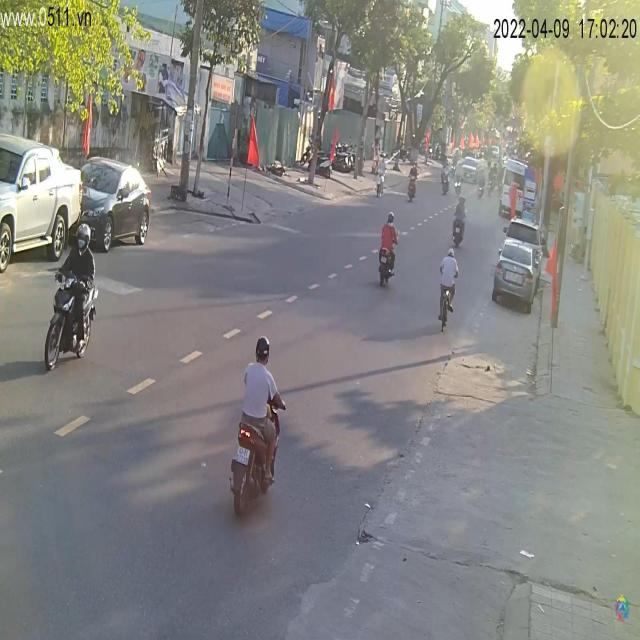car: (1, 133, 84, 276), (78, 159, 155, 253), (493, 223, 544, 314), (459, 156, 481, 188)
motorcycle: (43, 228, 99, 372), (230, 384, 282, 516), (379, 243, 398, 288), (450, 202, 468, 248), (407, 167, 419, 206)
